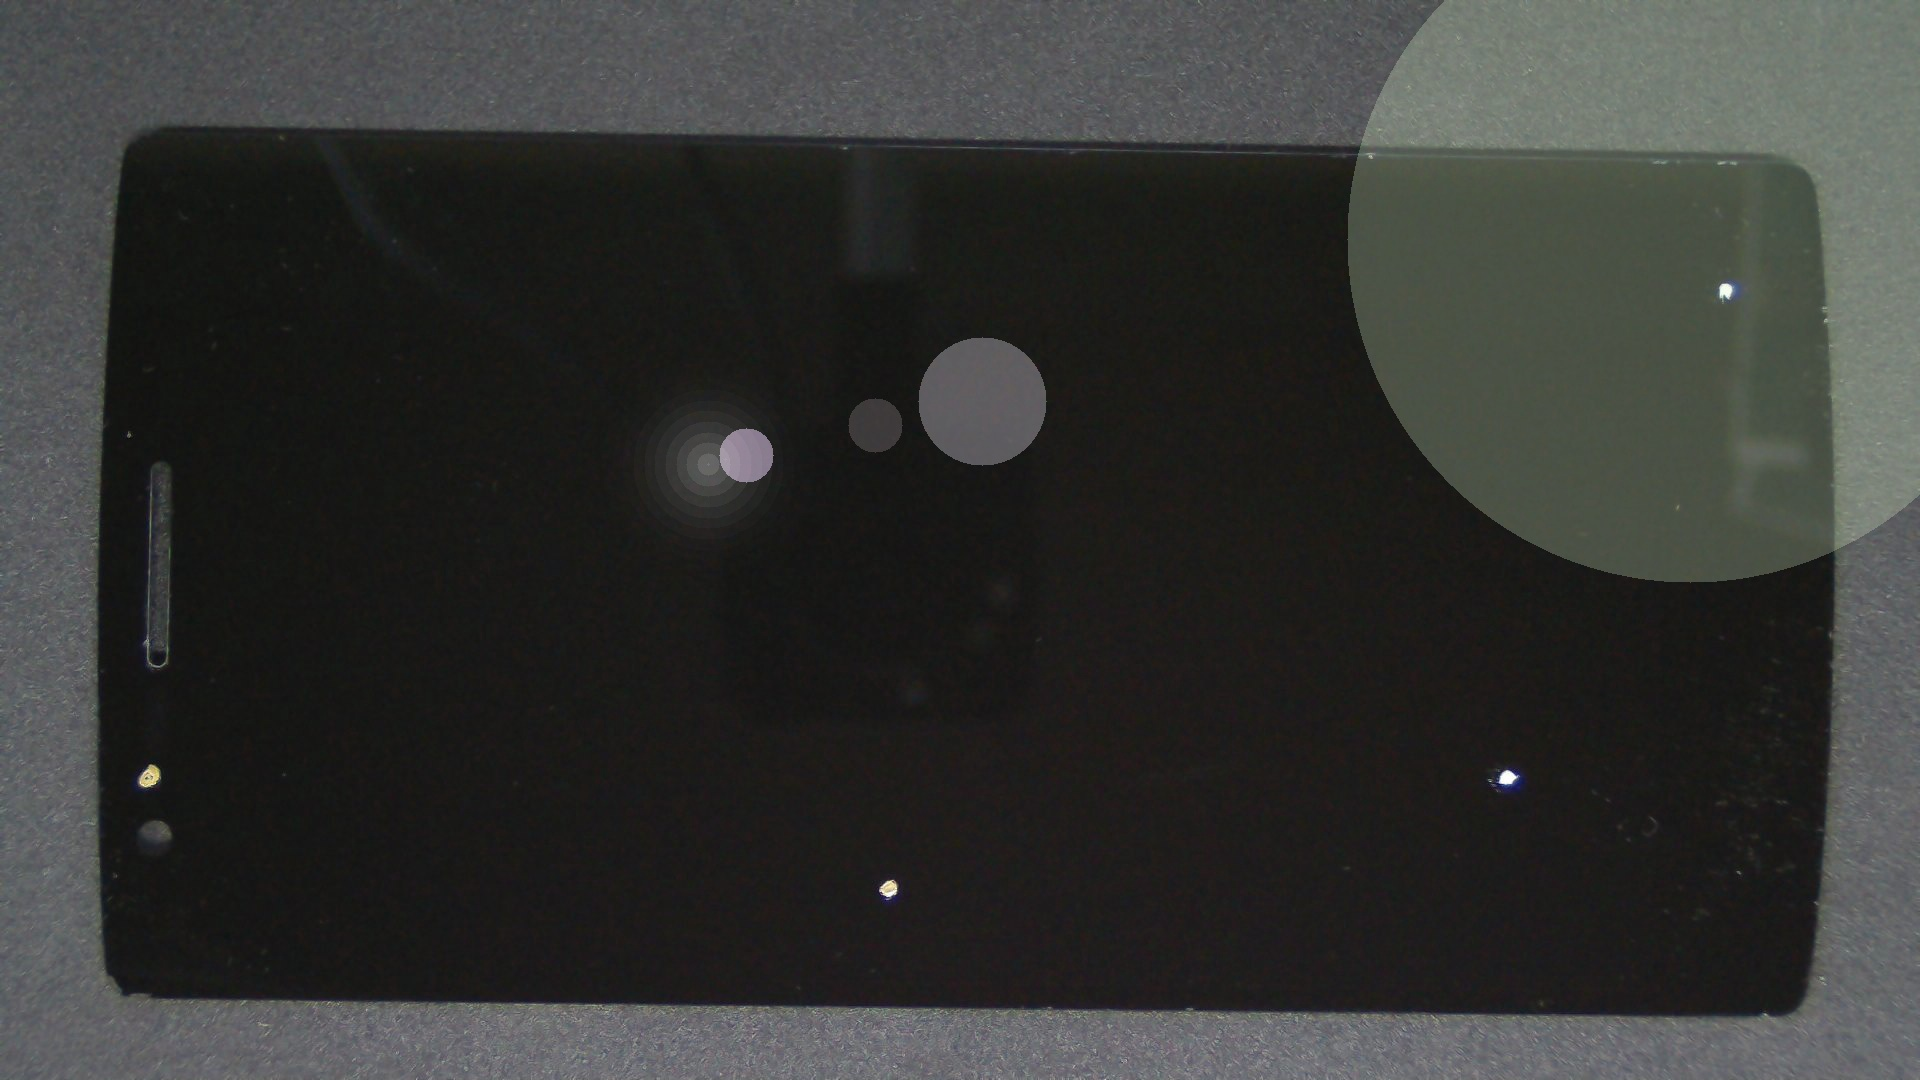oil: (754, 382, 1920, 1080), (447, 438, 1337, 1080), (865, 140, 1920, 422), (76, 381, 225, 1080)
